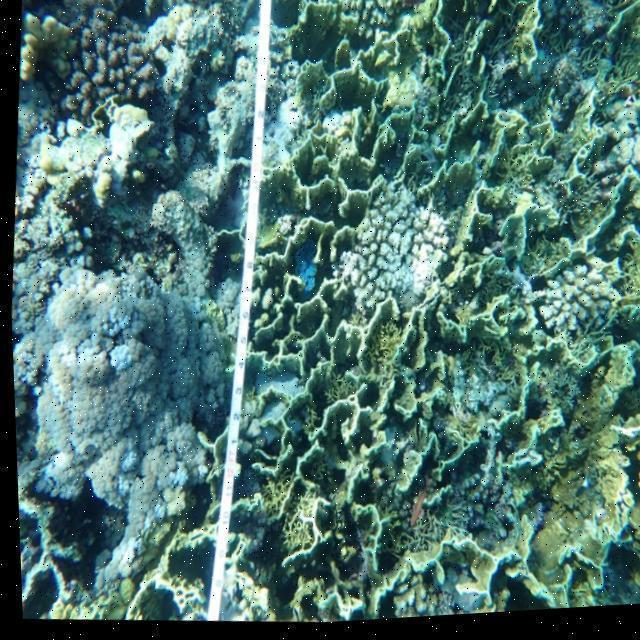Bleached Coral: (7, 213, 234, 539), (339, 182, 444, 327), (522, 255, 625, 350), (143, 0, 221, 99)
